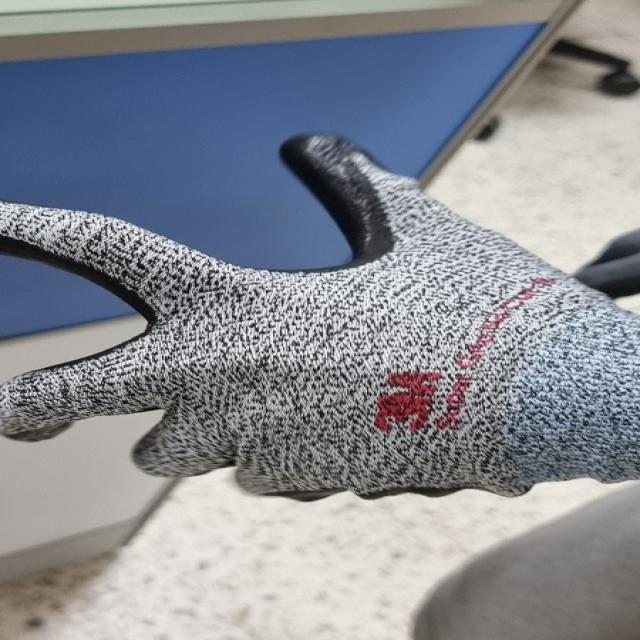Gloves: (0, 134, 615, 501)
